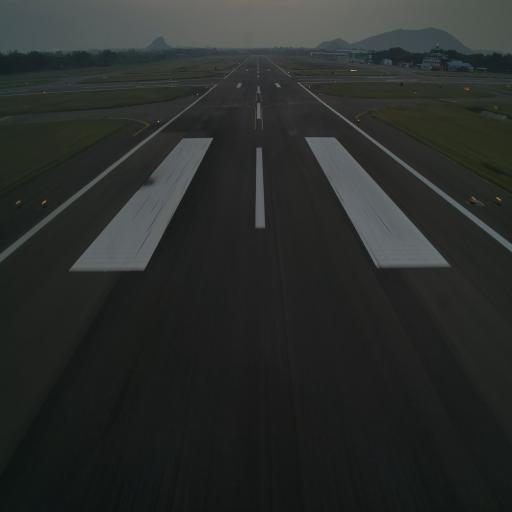on: (494, 191, 503, 206), (469, 191, 477, 206), (40, 196, 48, 208), (14, 198, 22, 207)
